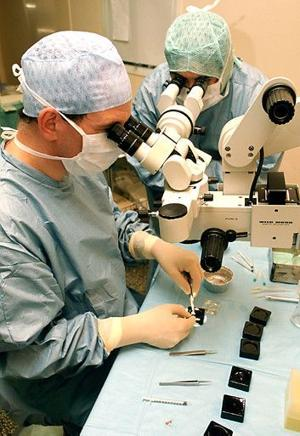person: (1, 31, 205, 431)
